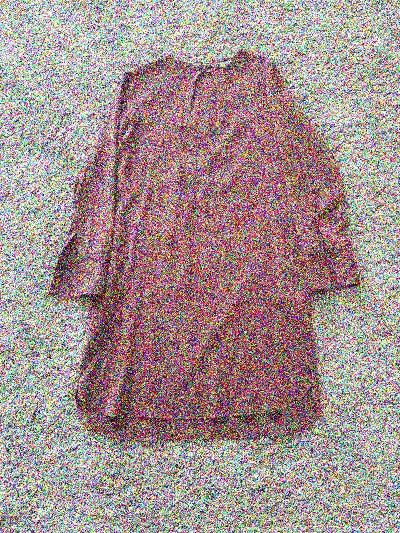Dress: (16, 26, 372, 453)
